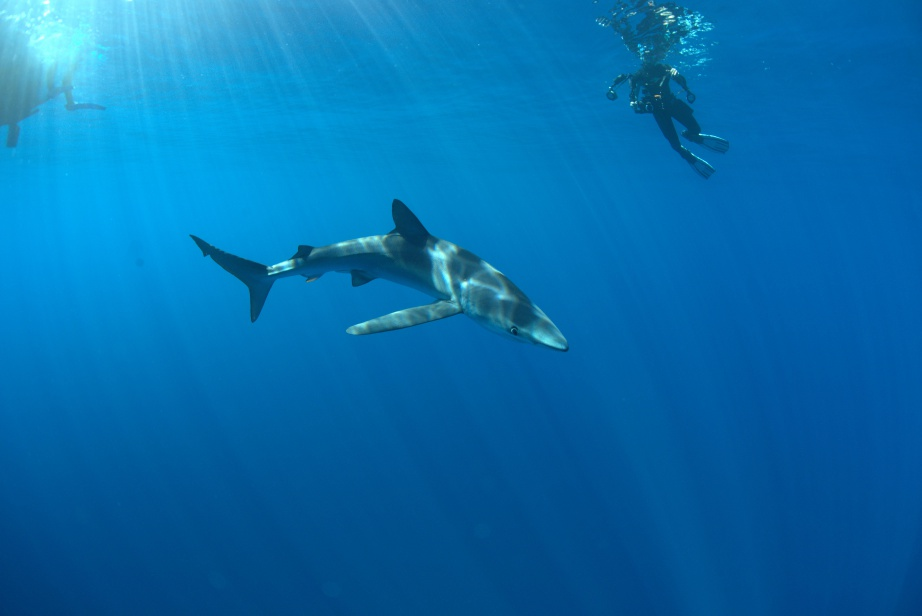Azul: (170, 189, 595, 366)
